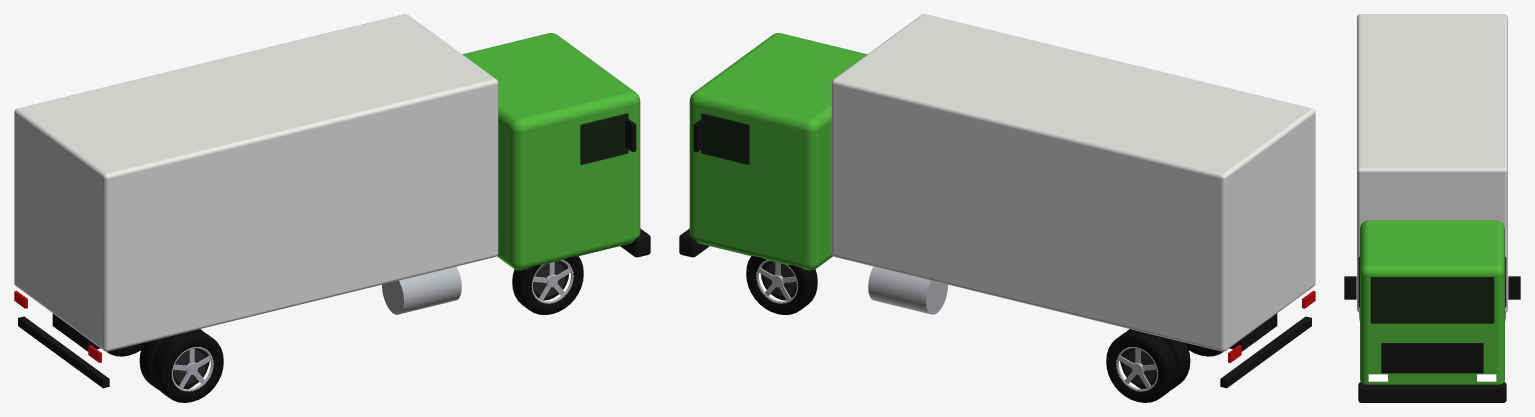
The model's file is truck.glb.
The picture shows the model from 3 angles, left to right: view 1: azimuth 30°, elevation 25°; view 2: azimuth 150°, elevation 25°; view 3: azimuth 270°, elevation 25°; orthographic projection. The views are drawn at different scales.
Parts seen in each view (by area): view 1: body_cargo, body_paint, wheel_rr_rubber (×2), body_trim, body_rim, body_glass, wheel_fr_rubber, wheel_rr_rim, wheel_fr_rim; view 2: body_cargo, body_paint, wheel_rl_rubber (×2), body_trim, body_rim, body_glass, wheel_fl_rubber, wheel_rl_rim, wheel_fl_rim; view 3: body_cargo, body_paint, body_trim, body_glass, body_lamp_front.
Part boxes in pixels (x1,y1,x2,y2): body_cargo: (14,14,498,351); body_paint: (462,33,640,270); wheel_rr_rubber (×2): (139,329,223,402); body_trim: (18,119,650,388); body_rim: (382,266,461,314); body_glass: (580,113,628,164); wheel_fr_rubber: (512,256,583,314); wheel_rr_rim: (171,347,213,391); wheel_fr_rim: (531,260,573,303); body_cargo: (831,14,1315,351); body_paint: (689,33,867,270); wheel_rl_rubber (×2): (1106,329,1190,402); body_trim: (679,119,1311,388); body_rim: (868,266,947,314); body_glass: (701,113,749,164); wheel_fl_rubber: (746,256,817,314); wheel_rl_rim: (1116,347,1158,391); wheel_fl_rim: (756,260,798,303); body_cargo: (1357,14,1507,312); body_paint: (1360,220,1504,384); body_trim: (1344,276,1520,402); body_glass: (1358,256,1506,323); body_lamp_front: (1368,374,1496,381).
Bounding box in the file's own units: 8.57 × 3.75 × 2.92.
